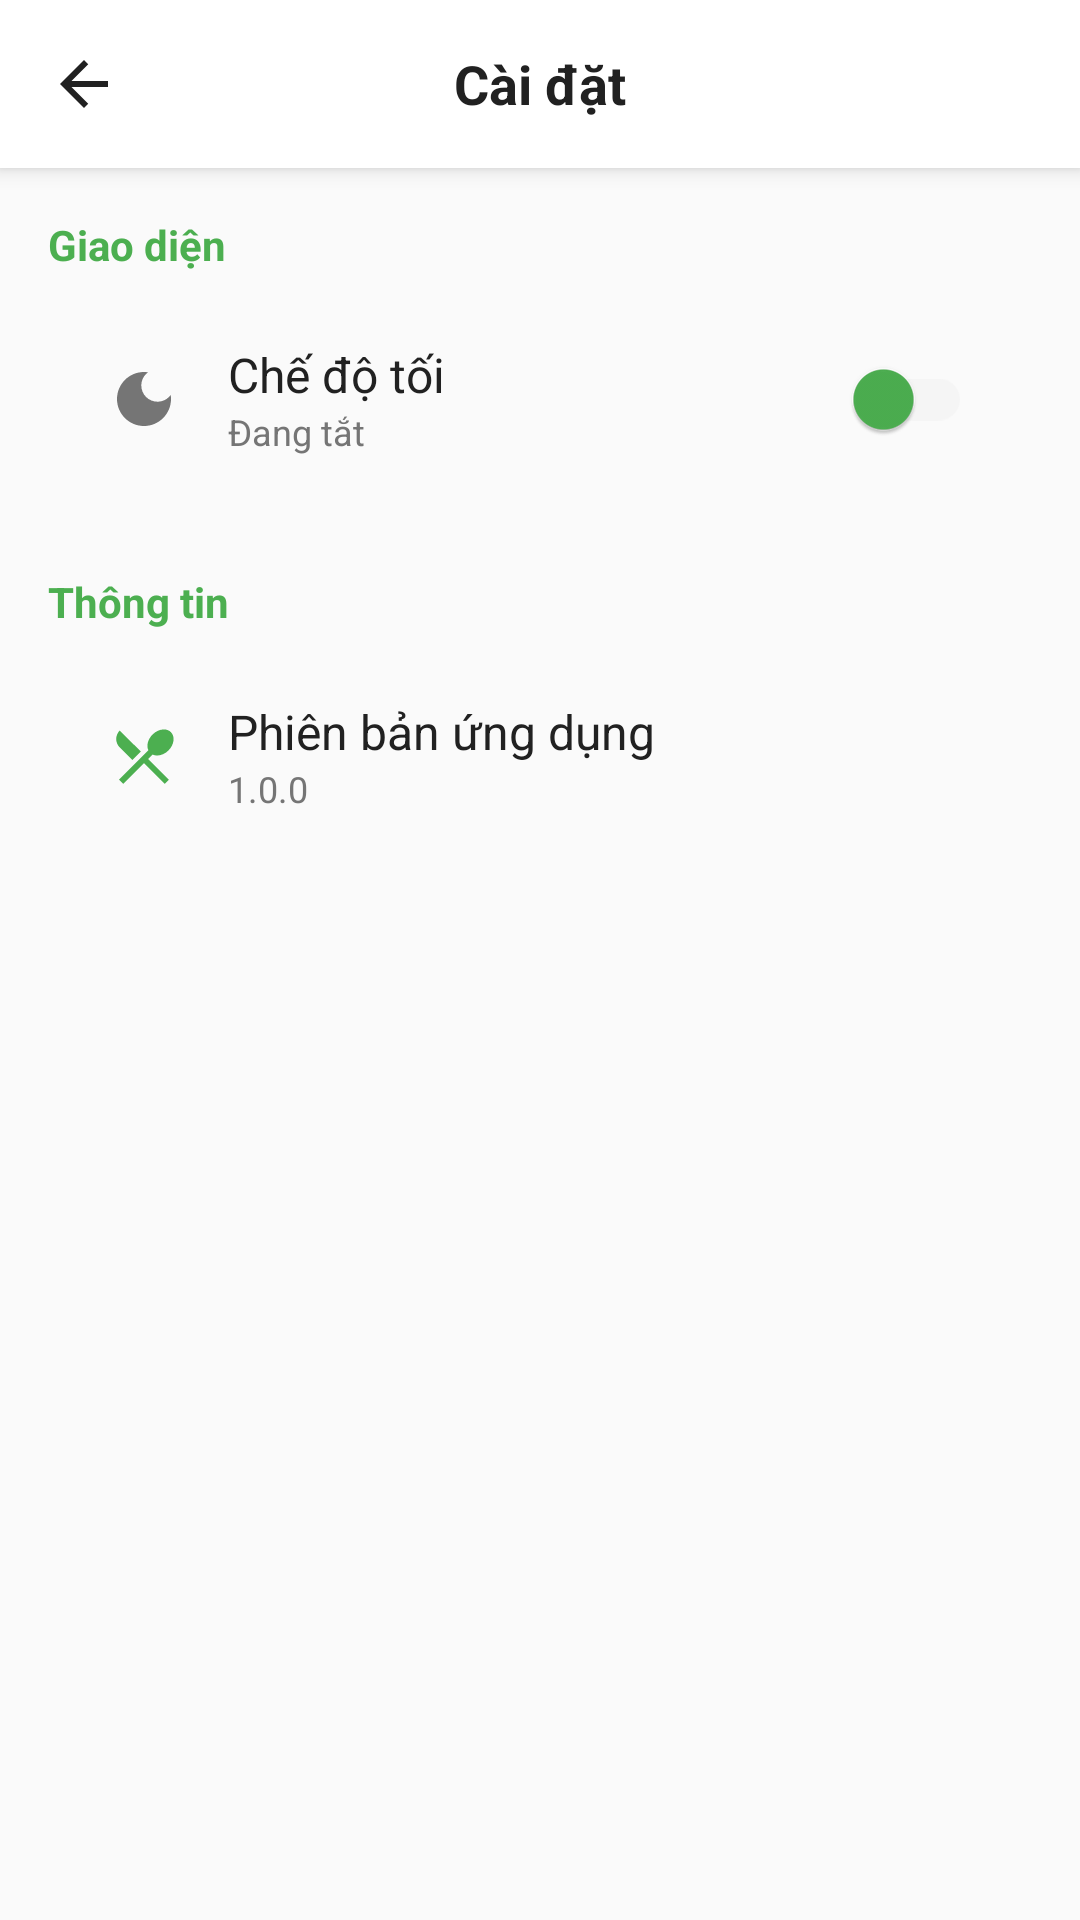

Where icons sit on this 1080px×1920px app screen, as (left=x1, top=y1, right=x2, bottom=y2):
Back: (left=60, top=60, right=108, bottom=108)
Theme: (left=117, top=372, right=171, bottom=426)
